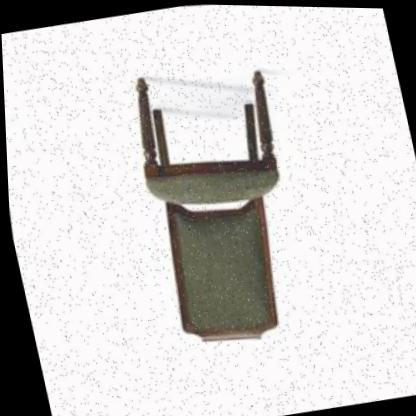Chair: (86, 30, 340, 378)
